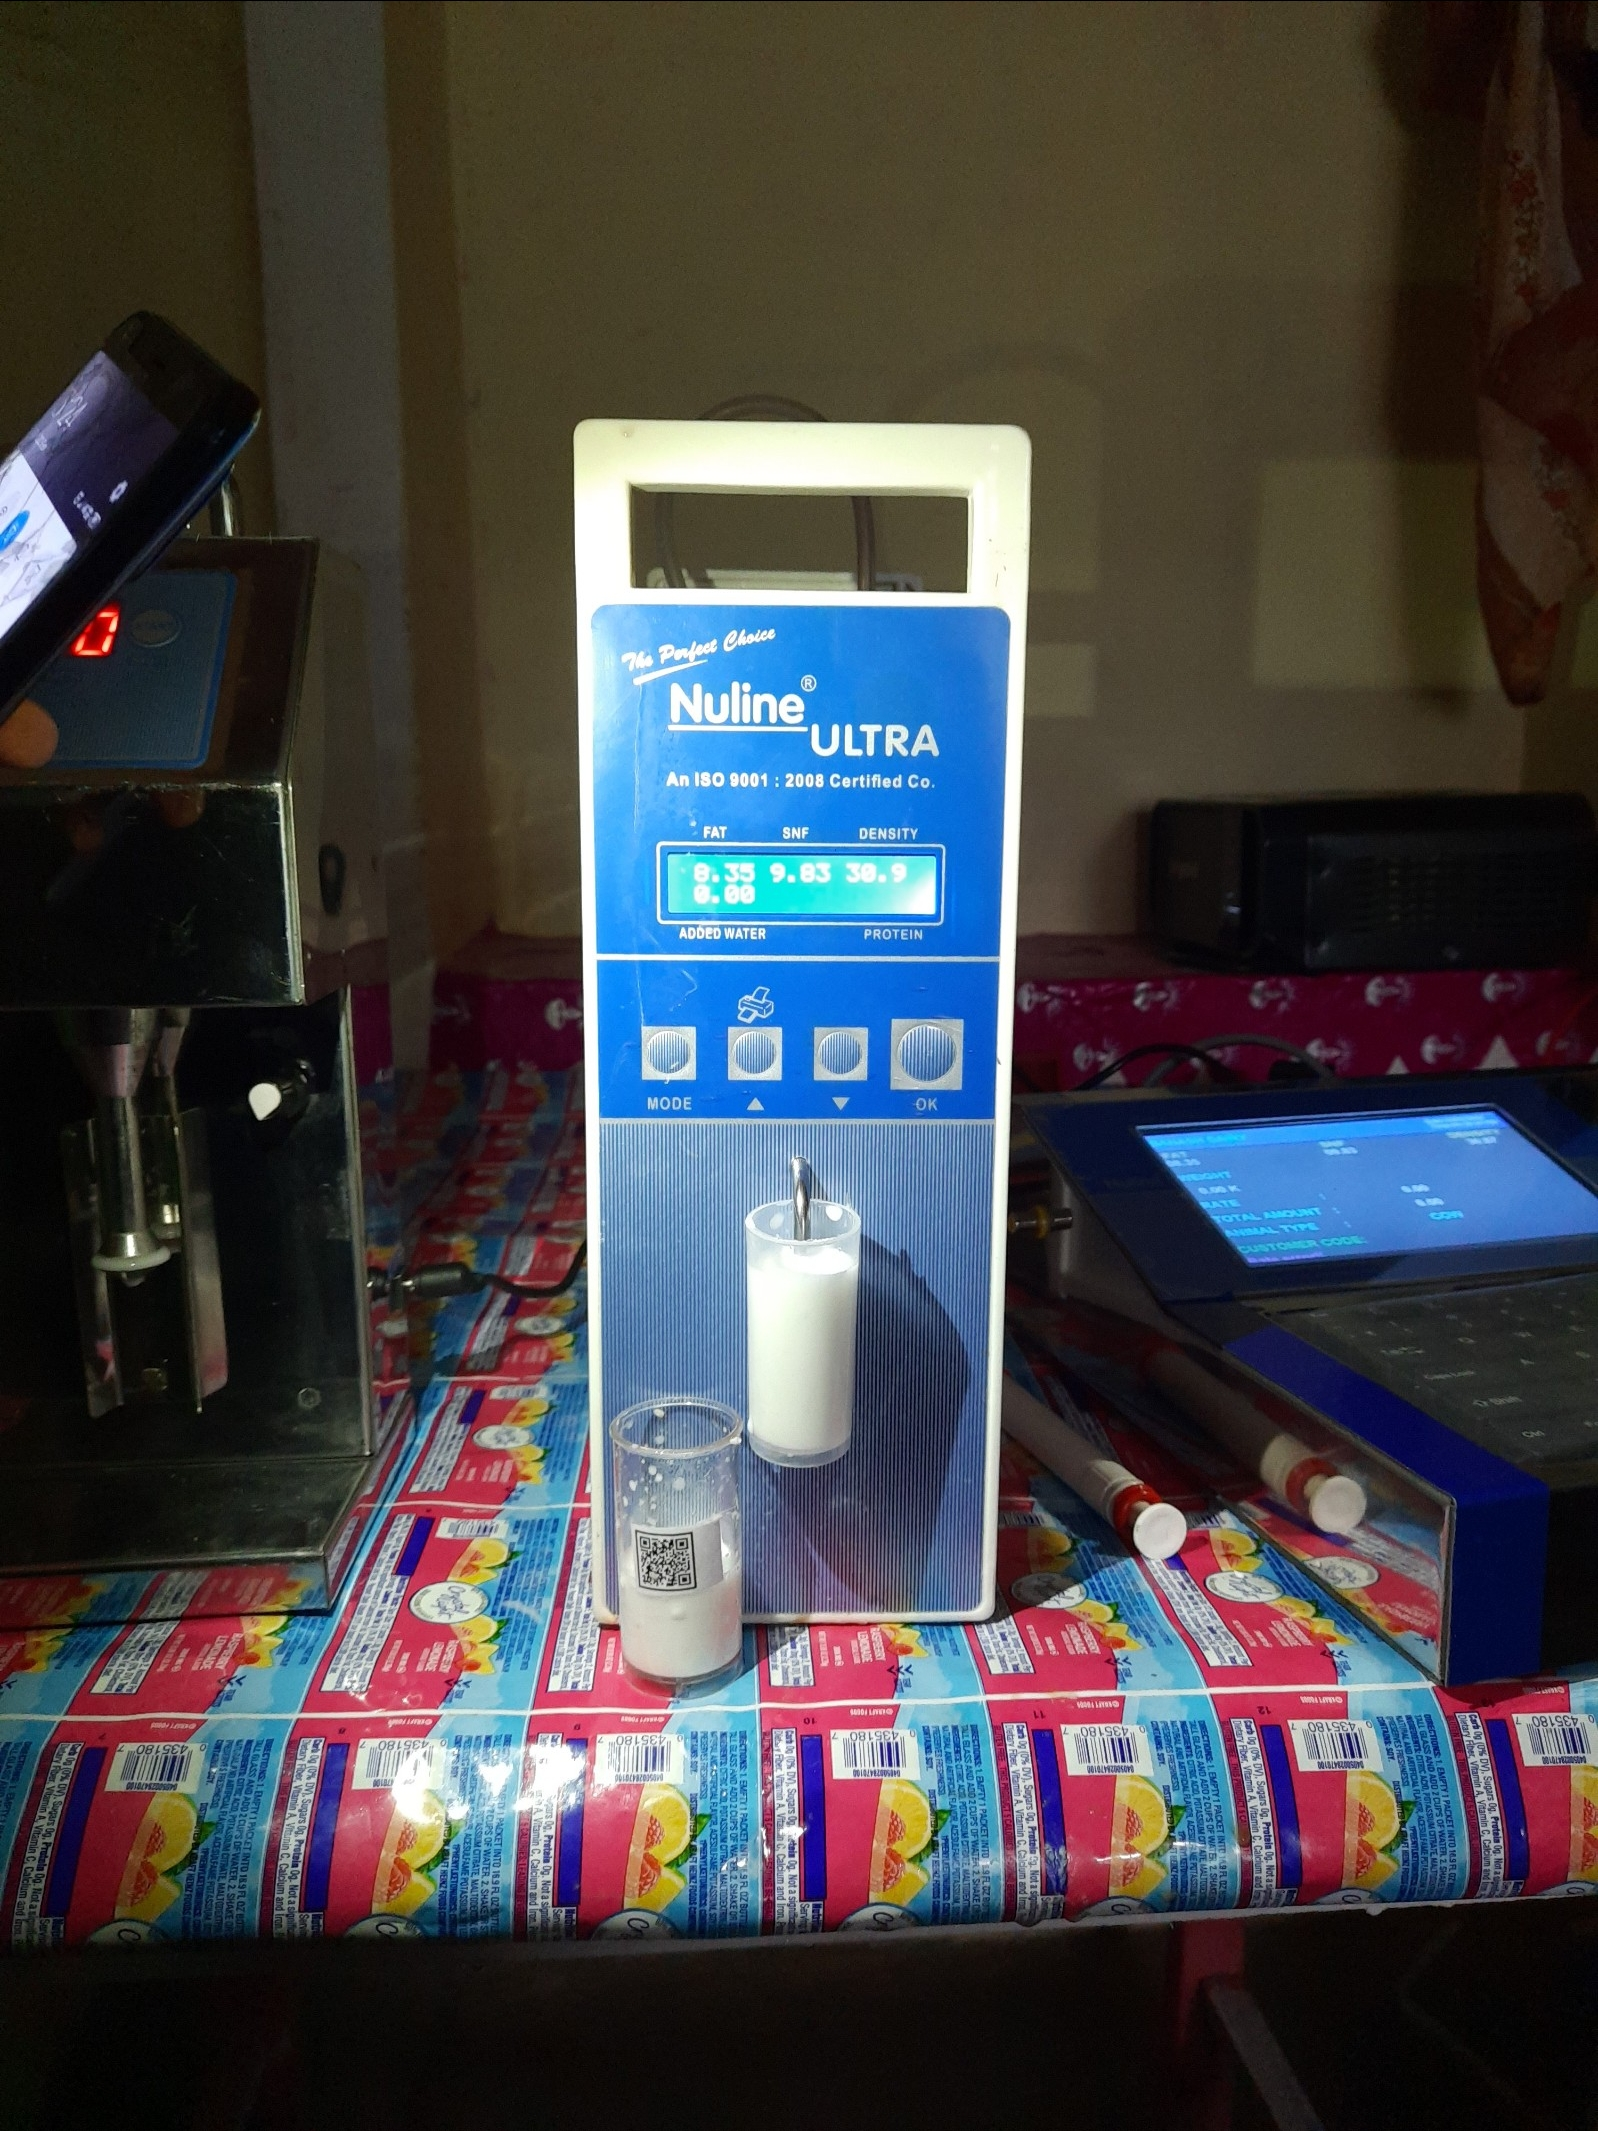lcd: (648, 839, 962, 940)
qr: (623, 1515, 718, 1602)
